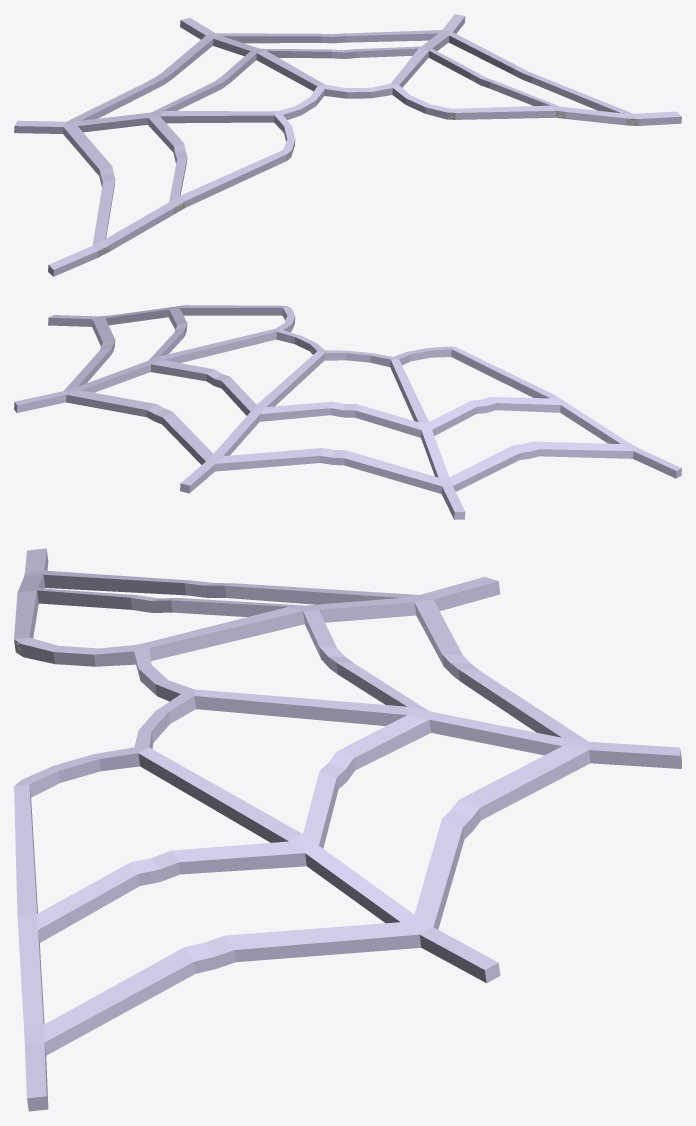
Rendered from Web_02.fbx.
3 views of the same model, one above another, from view 1: azimuth 30°, elevation 25°; view 2: azimuth 150°, elevation 25°; view 3: azimuth 270°, elevation 25° (orthographic). The views are drawn at different scales.
Parts seen in each view (by area): view 1: Web_02; view 2: Web_02; view 3: Web_02.
Boxes of the visible parts, x1,y1,x2,y2 form: Web_02: (14,14,681,276); Web_02: (14,305,681,519); Web_02: (14,548,681,1111).
Size of the model in its own units: 89.01 by 10.99 by 45.86.
